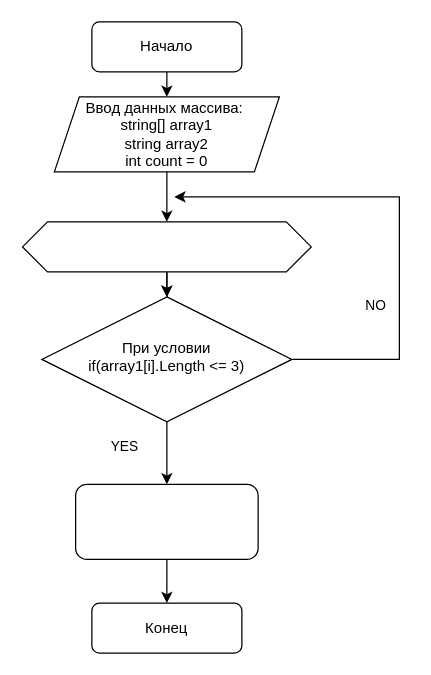
Image size: 431x675. Some labels were removed from this diagram. The shapes that lost their labels are listed below. From the top down, each one's centre as x and y in pixels, then its label:
At pixel 166 246: "Ввод цикла for (int i = 0; i < array1.Length; i++)".
At pixel 166 521: "Вывод на консоль: array2[count] = array1[i]; ++count;".
